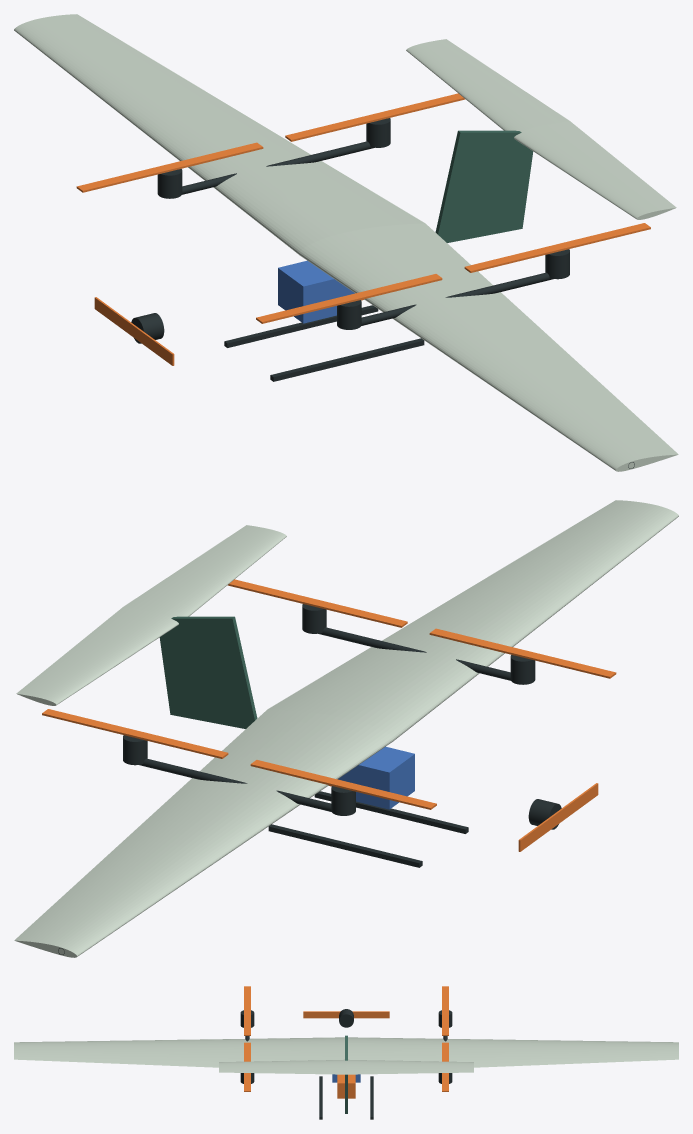
Rendered from 08-internal.glb.
3 views of the same model, one above another, from view 1: azimuth 30°, elevation 25°; view 2: azimuth 150°, elevation 25°; view 3: azimuth 270°, elevation 25° (orthographic). The views are drawn at different scales.
Parts seen in each view (by area): view 1: wing-1, wing1, fin, tail-1, tail1, payload, prop_1_230.0, prop_-1_230.0, prop_-1_700.0, prop_1_700.0, skid-1, boom-1 (+4 smaller); view 2: wing1, wing-1, fin, tail1, tail-1, payload, prop_-1_230.0, prop_1_230.0, prop_1_700.0, prop_-1_700.0, skid1, boom1 (+4 smaller); view 3: wing-1, wing1, tail-1, tail1, cruise_prop, battery, prop_-1_230.0, prop_1_230.0, prop_-1_700.0, prop_1_700.0, cruise_motor.
Part boxes in pixels (x1,y1,x2,y2): wing-1: [299, 223, 678, 471]; wing1: [14, 14, 424, 254]; fin: [435, 130, 533, 242]; tail-1: [514, 121, 676, 219]; tail1: [406, 39, 569, 131]; payload: [278, 260, 354, 323]; prop_1_230.0: [76, 142, 263, 192]; prop_-1_230.0: [256, 274, 442, 323]; prop_-1_700.0: [464, 223, 650, 272]; prop_1_700.0: [285, 93, 465, 141]; skid-1: [270, 338, 424, 381]; boom-1: [361, 272, 553, 325]; wing1: [14, 709, 393, 957]; wing-1: [268, 500, 678, 740]; fin: [159, 616, 257, 728]; tail1: [16, 607, 178, 705]; tail-1: [123, 525, 286, 617]; payload: [338, 746, 414, 809]; prop_-1_230.0: [429, 628, 616, 678]; prop_1_230.0: [250, 760, 436, 809]; prop_1_700.0: [42, 709, 228, 758]; prop_-1_700.0: [227, 579, 407, 627]; skid1: [268, 824, 422, 867]; boom1: [139, 758, 331, 811]; wing-1: [14, 1037, 344, 1067]; wing1: [348, 1037, 678, 1067]; tail-1: [219, 1059, 346, 1074]; tail1: [346, 1059, 473, 1074]; cruise_prop: [303, 1011, 389, 1018]; battery: [337, 1074, 355, 1098]; prop_-1_230.0: [244, 986, 250, 1035]; prop_1_230.0: [442, 986, 448, 1035]; prop_-1_700.0: [244, 1042, 250, 1091]; prop_1_700.0: [442, 1042, 448, 1091]; cruise_motor: [339, 1009, 353, 1027].
Size of the model in its own units: 984 by 390 by 2350.
